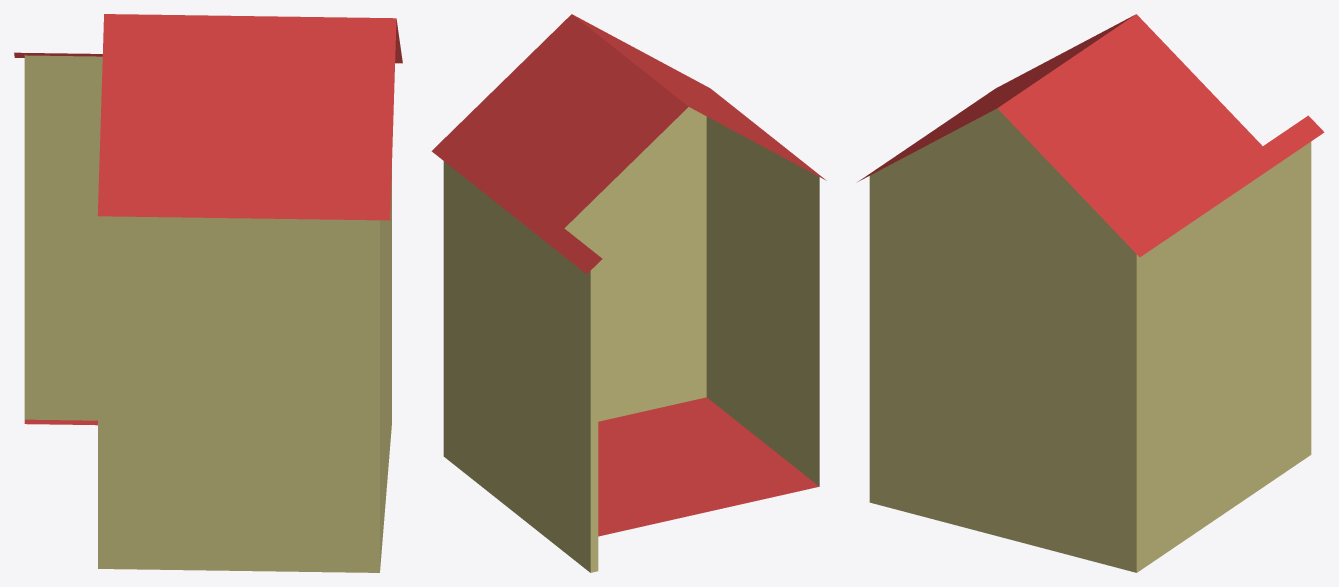
3 views of the same model, side by side, from view 1: azimuth 30°, elevation 25°; view 2: azimuth 150°, elevation 25°; view 3: azimuth 270°, elevation 25° (orthographic). The views are drawn at different scales.
Size of the model in its own units: 10.46 by 12.24 by 12.48.
